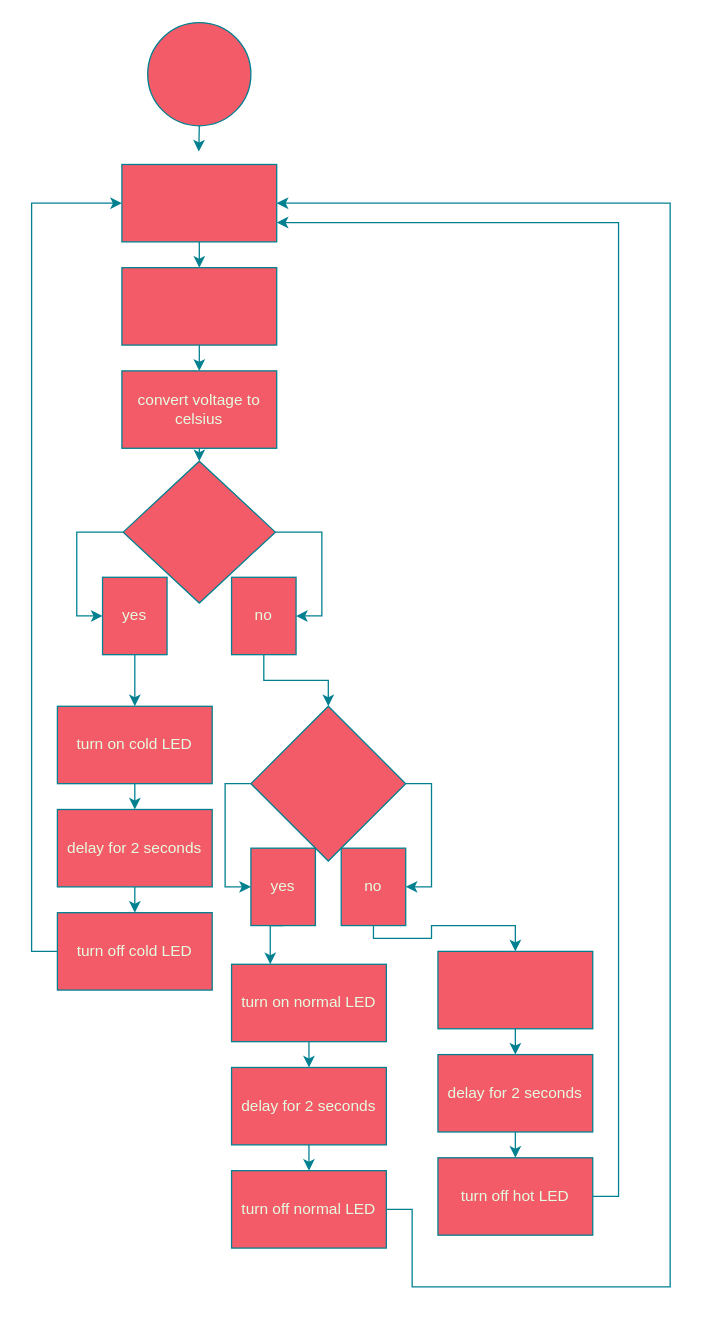
This 703x1320 diagram has some shape labels left out. The centre of each missing label's shape, as x and y in pixels:
convert sensor value to voltage: the point at 199,305
Is temperature < coldTemp?: the point at 198,531
Is temperature > coldTemp and ≤ hotTemp?: the point at 328,783
read temperature sensor: the point at 199,202
start: the point at 198,73
turn on hotLED: the point at 515,989
